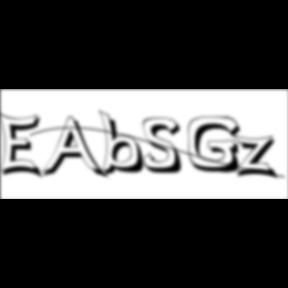A: (42, 116, 110, 182)
E: (0, 110, 48, 182)
G: (188, 116, 248, 176)
S: (143, 117, 189, 176)
b: (98, 109, 152, 179)
z: (234, 134, 282, 182)
